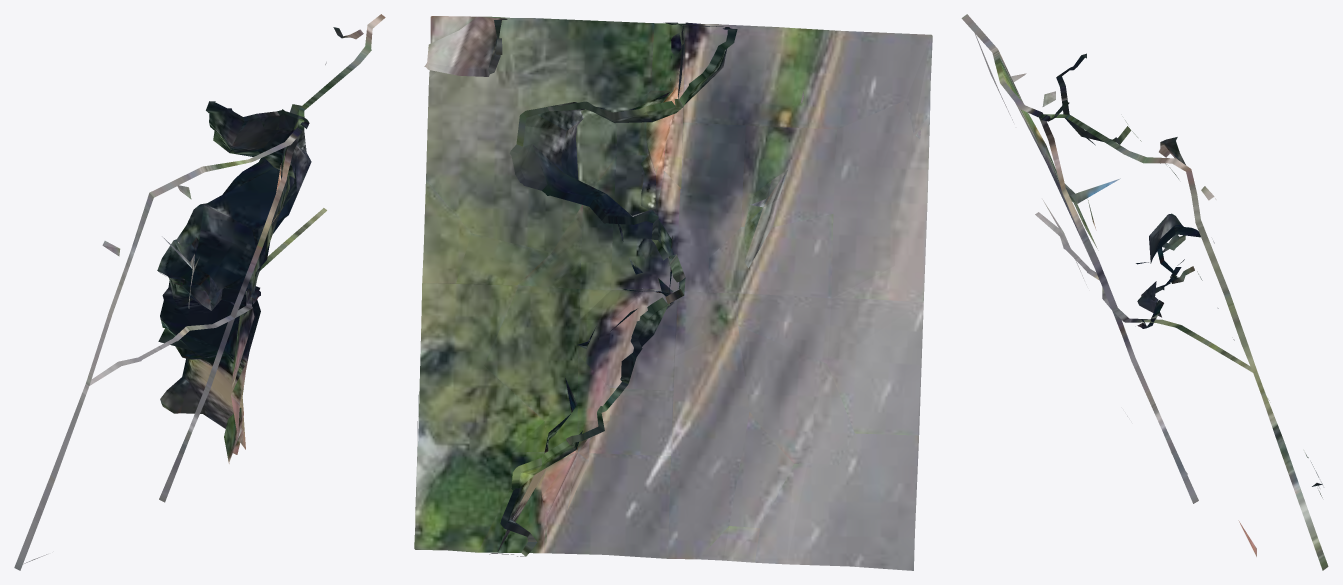
File: AJVsH2y9zHoTOhUFJYqFyQCGB0vLQVGeaezAghxlRo3_MR2A9Yazch5vX9Mcm7GrHPWnk8BQZSp8XwRc29acH5YJJfs4xL59hOJkJosrrsnUoChKzNMTND75bucdR6oVH0MPRMWJOlCp_aApwtGsj99hHZa5.glb
3 views of the same model, side by side, from view 1: azimuth 30°, elevation 25°; view 2: azimuth 150°, elevation 25°; view 3: azimuth 270°, elevation 25° (orthographic). The views are drawn at different scales.
Size of the model in its own units: 36.51 by 38.31 by 28.43.
Materials: 1 (1 with a texture image).
